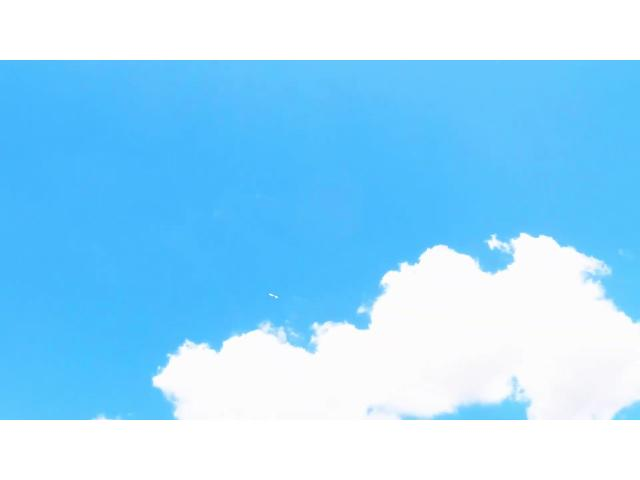Anti-Drone: (264, 287, 284, 304)
